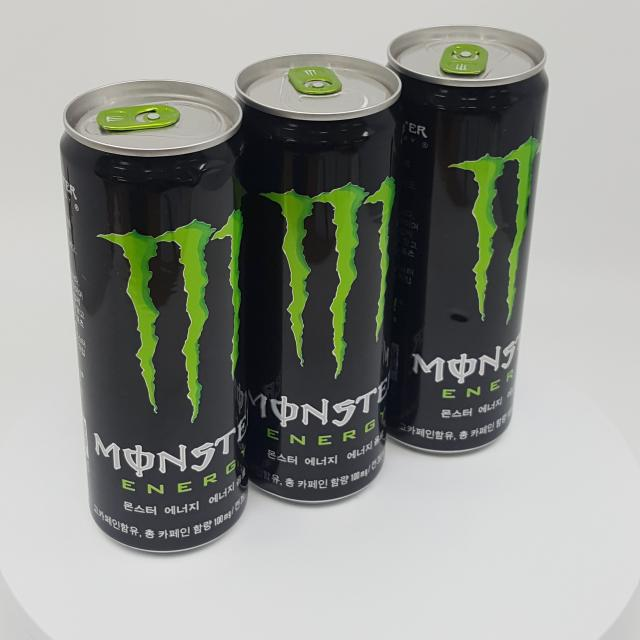--------355ML: (60, 78, 246, 552), (233, 52, 406, 504), (386, 24, 548, 453)
